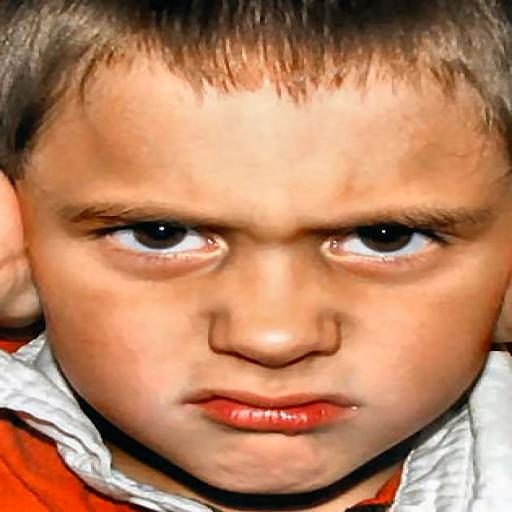Autism: (10, 1, 512, 490)
